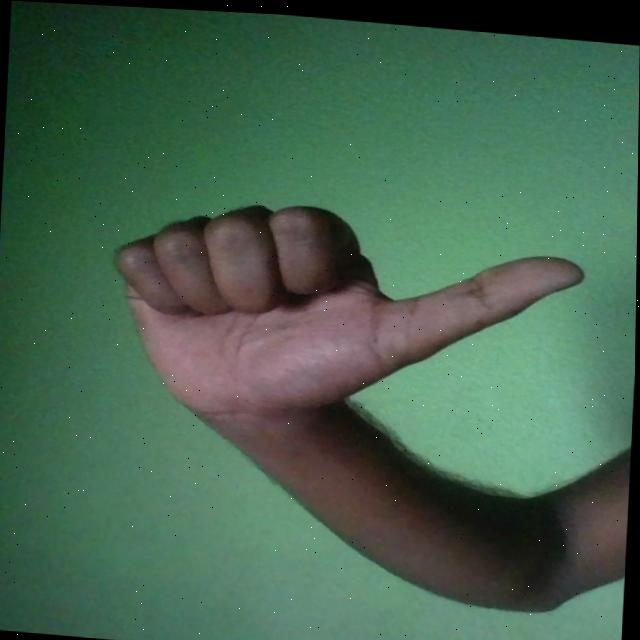Dislike: (109, 190, 588, 441)
